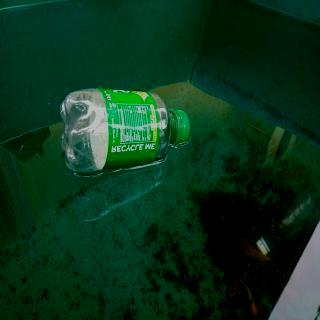bottle: (57, 84, 192, 176)
